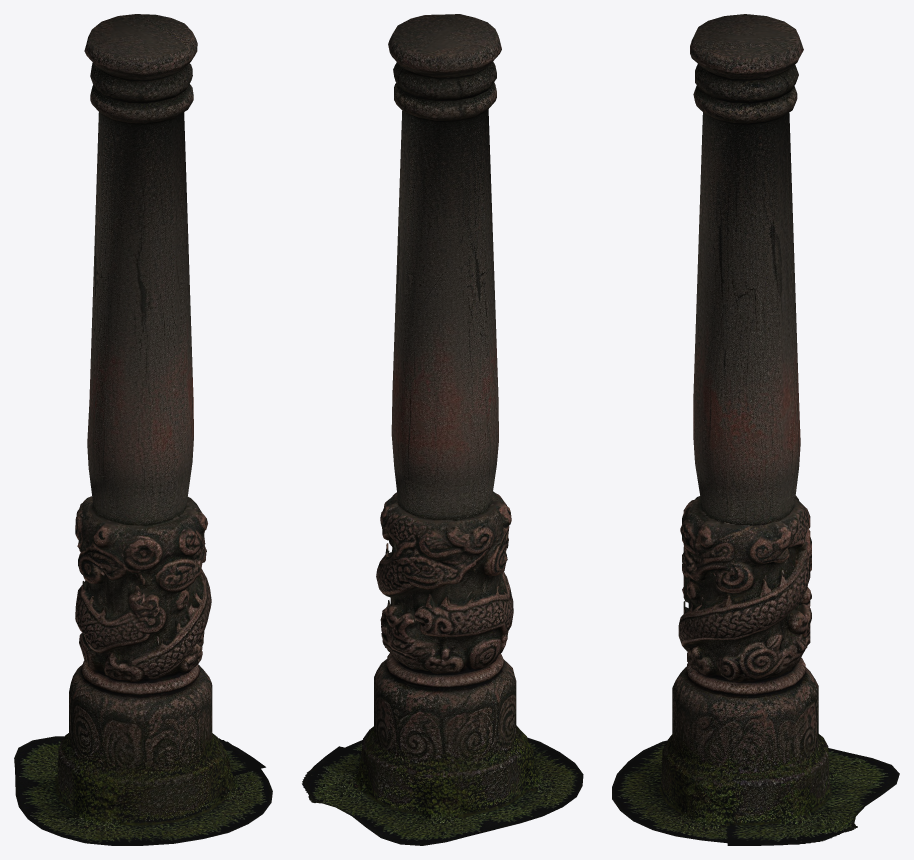
The model's file is tripo_convert_bcebc25d-dec3-408c-96b4-1e5206818248.fbx.
The picture shows the model from 3 angles, left to right: view 1: azimuth 30°, elevation 25°; view 2: azimuth 150°, elevation 25°; view 3: azimuth 270°, elevation 25°; orthographic projection.
Visible parts, largest first — view 1: tripo_node_bcebc25d; view 2: tripo_node_bcebc25d; view 3: tripo_node_bcebc25d.
Part boxes in pixels (x1,y1,x2,y2): tripo_node_bcebc25d: (14, 14, 272, 845); tripo_node_bcebc25d: (302, 14, 583, 845); tripo_node_bcebc25d: (612, 14, 899, 845).
Size of the model in its own units: 0.3223 by 0.998 by 0.3457.
1 material, 1 textured.
